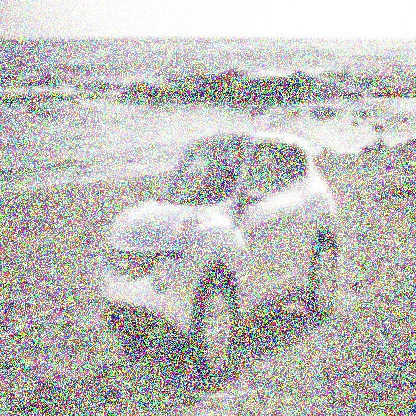Vehicle: (98, 110, 340, 388)
